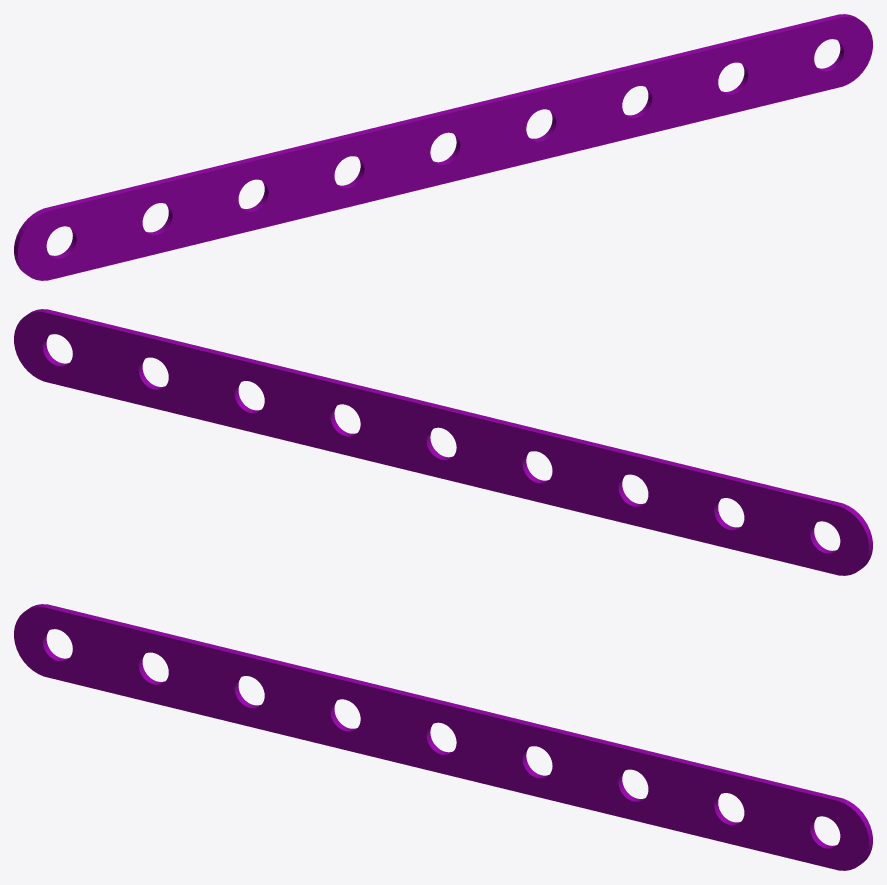
Rendered from ThanhThang_9_KimLoai_Tim.glb.
3 views of the same model, one above another, from view 1: azimuth 30°, elevation 25°; view 2: azimuth 150°, elevation 25°; view 3: azimuth 330°, elevation 25° (orthographic).
Visible parts, largest first — view 1: defaultobject.001; view 2: defaultobject.001; view 3: defaultobject.001.
Boxes of the visible parts, x1=… form: defaultobject.001: x1=14, y1=14, x2=872, y2=280; defaultobject.001: x1=14, y1=309, x2=872, y2=575; defaultobject.001: x1=14, y1=604, x2=872, y2=870.
Size of the model in its own units: 283 by 21.91 by 2.24.
